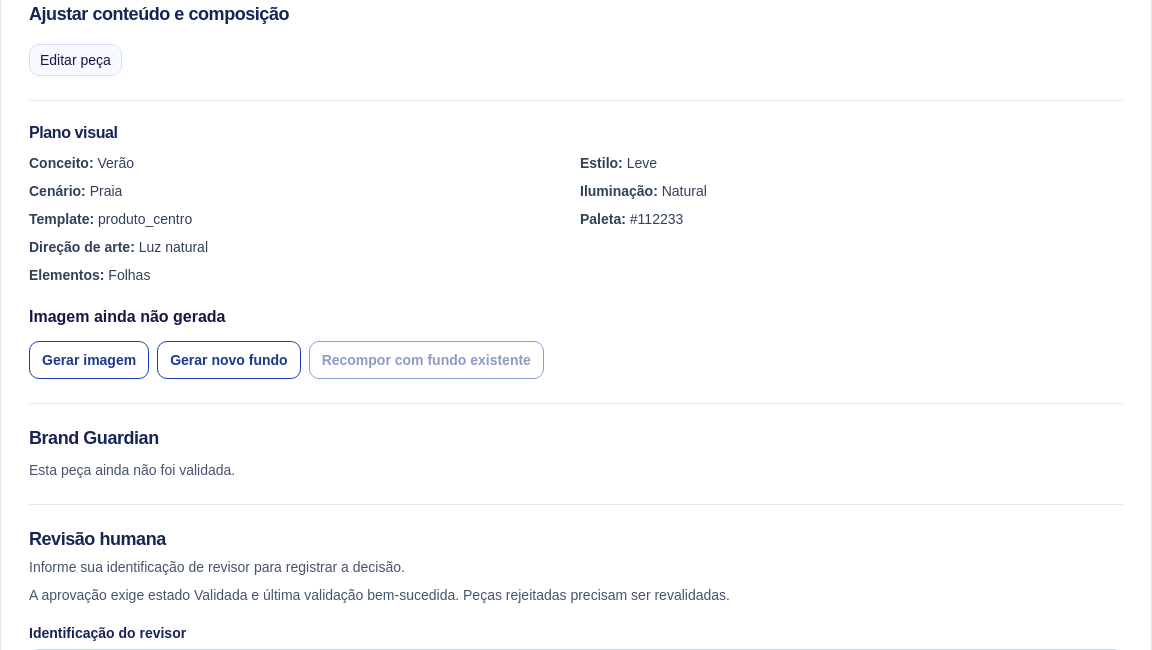
Test: detalhe da campanha › mostra falha recuperável da API e bloqueio de assets
(page scrolled)
Expected: the text "Imagem ainda não gerada" is shown, left=29, top=308, right=226, bottom=325
Click the button "Gerar imagem" at (89, 360), box left=29, top=341, right=149, bottom=379
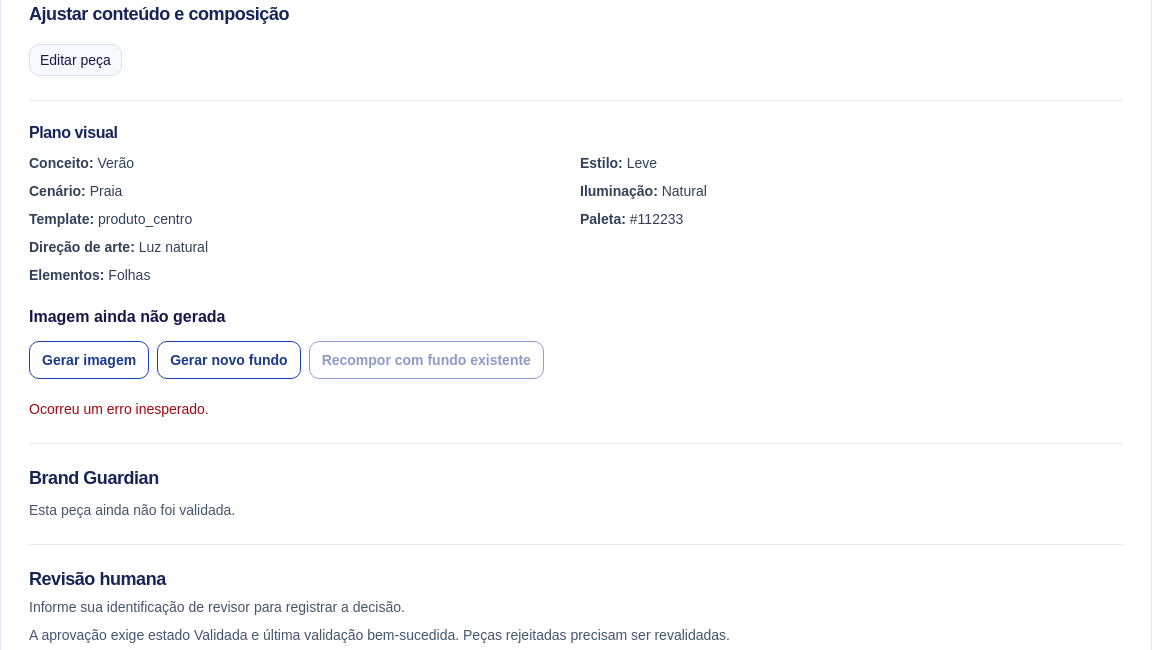
Now the message "Ocorreu um erro inesperado." is shown, box left=29, top=401, right=209, bottom=417
Click the button "Gerar imagem" at (89, 360), box left=29, top=341, right=149, bottom=379
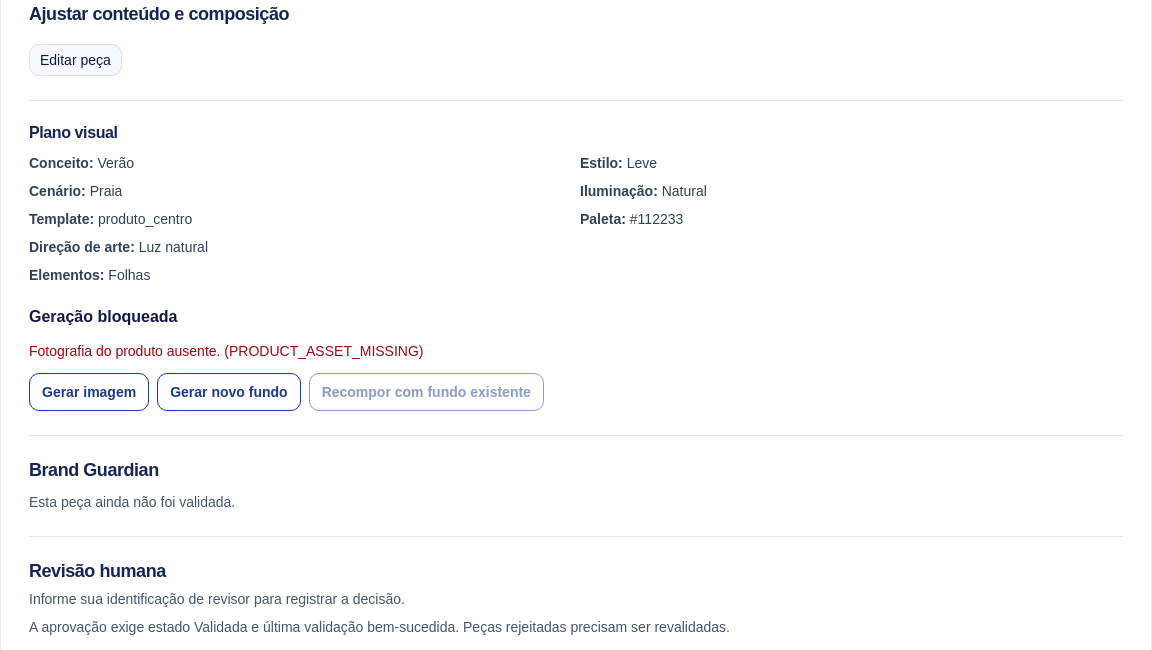
Now the text "Geração bloqueada" is shown, box left=29, top=308, right=178, bottom=325
Now the text "Fotografia do produto ausente. (PRODUCT_ASSET_MISSING)" is shown, box left=29, top=343, right=424, bottom=359
